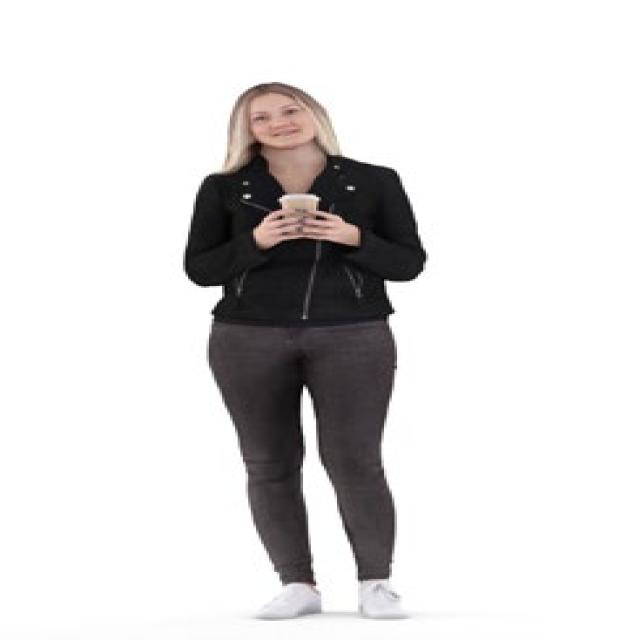standing: (176, 79, 431, 624)
